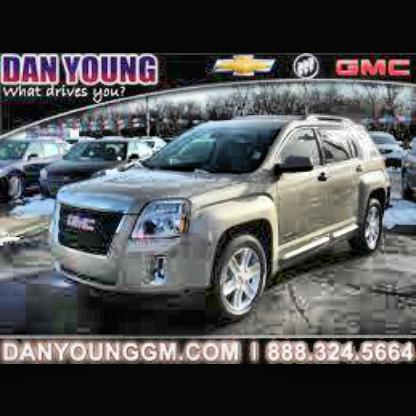GMC Terrain SUV 2012: (53, 117, 398, 329)
